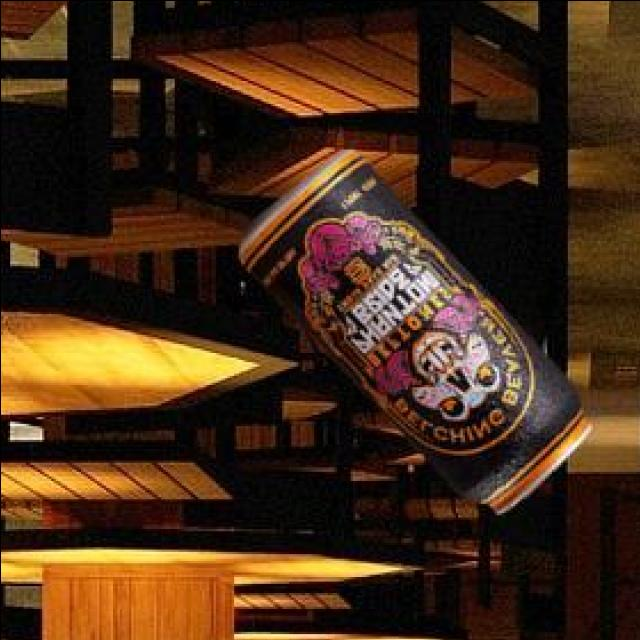logam: (234, 152, 586, 515)
